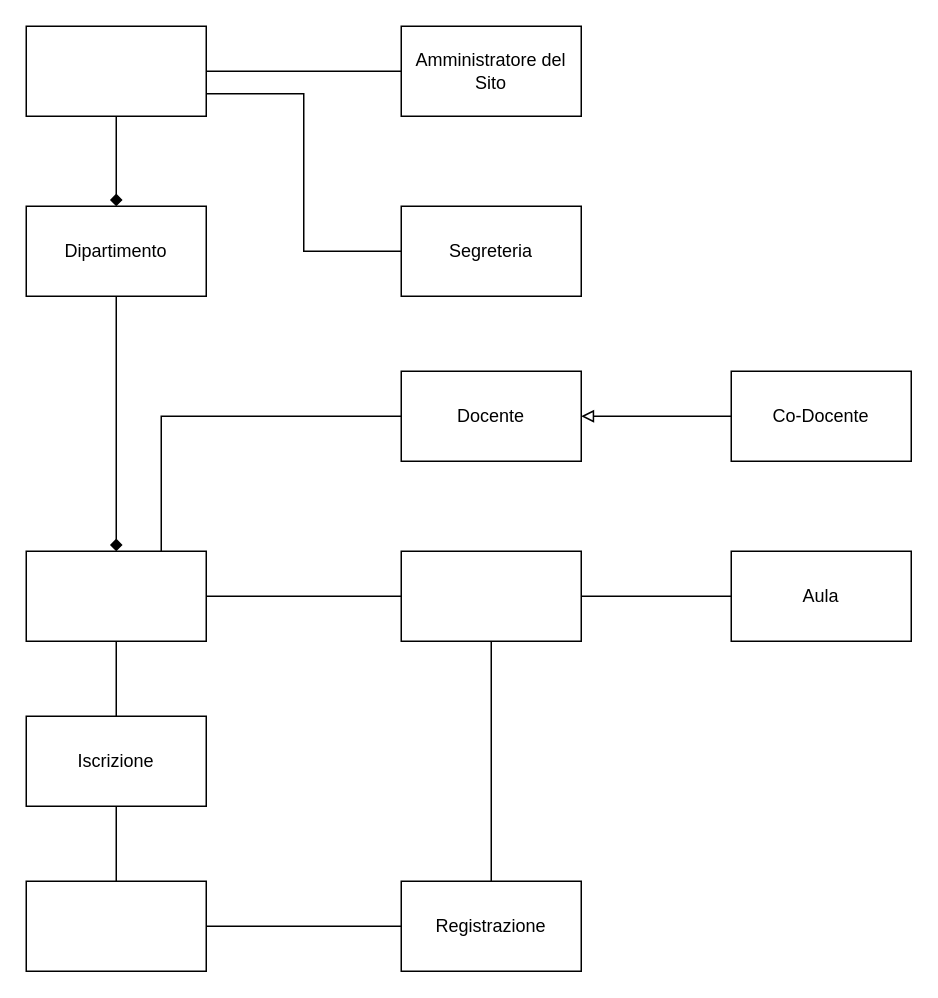
The diagram is 938 pixels wide and 998 high, and some of its shapes have lost their labels. The shapes that lost their labels are listed below. From the top down, each one's centre as x and y in pixels, then its label:
the point at 115,70: Unviersità
the point at 115,595: Corso
the point at 490,595: Esame
the point at 115,925: Studente
